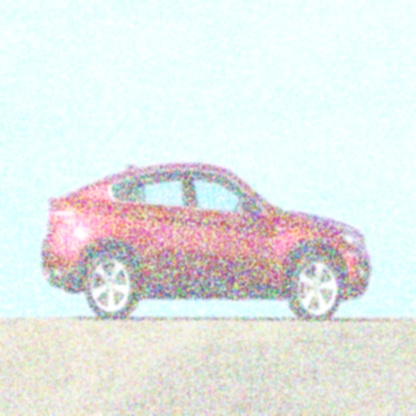Vehicle: (40, 155, 378, 325)
